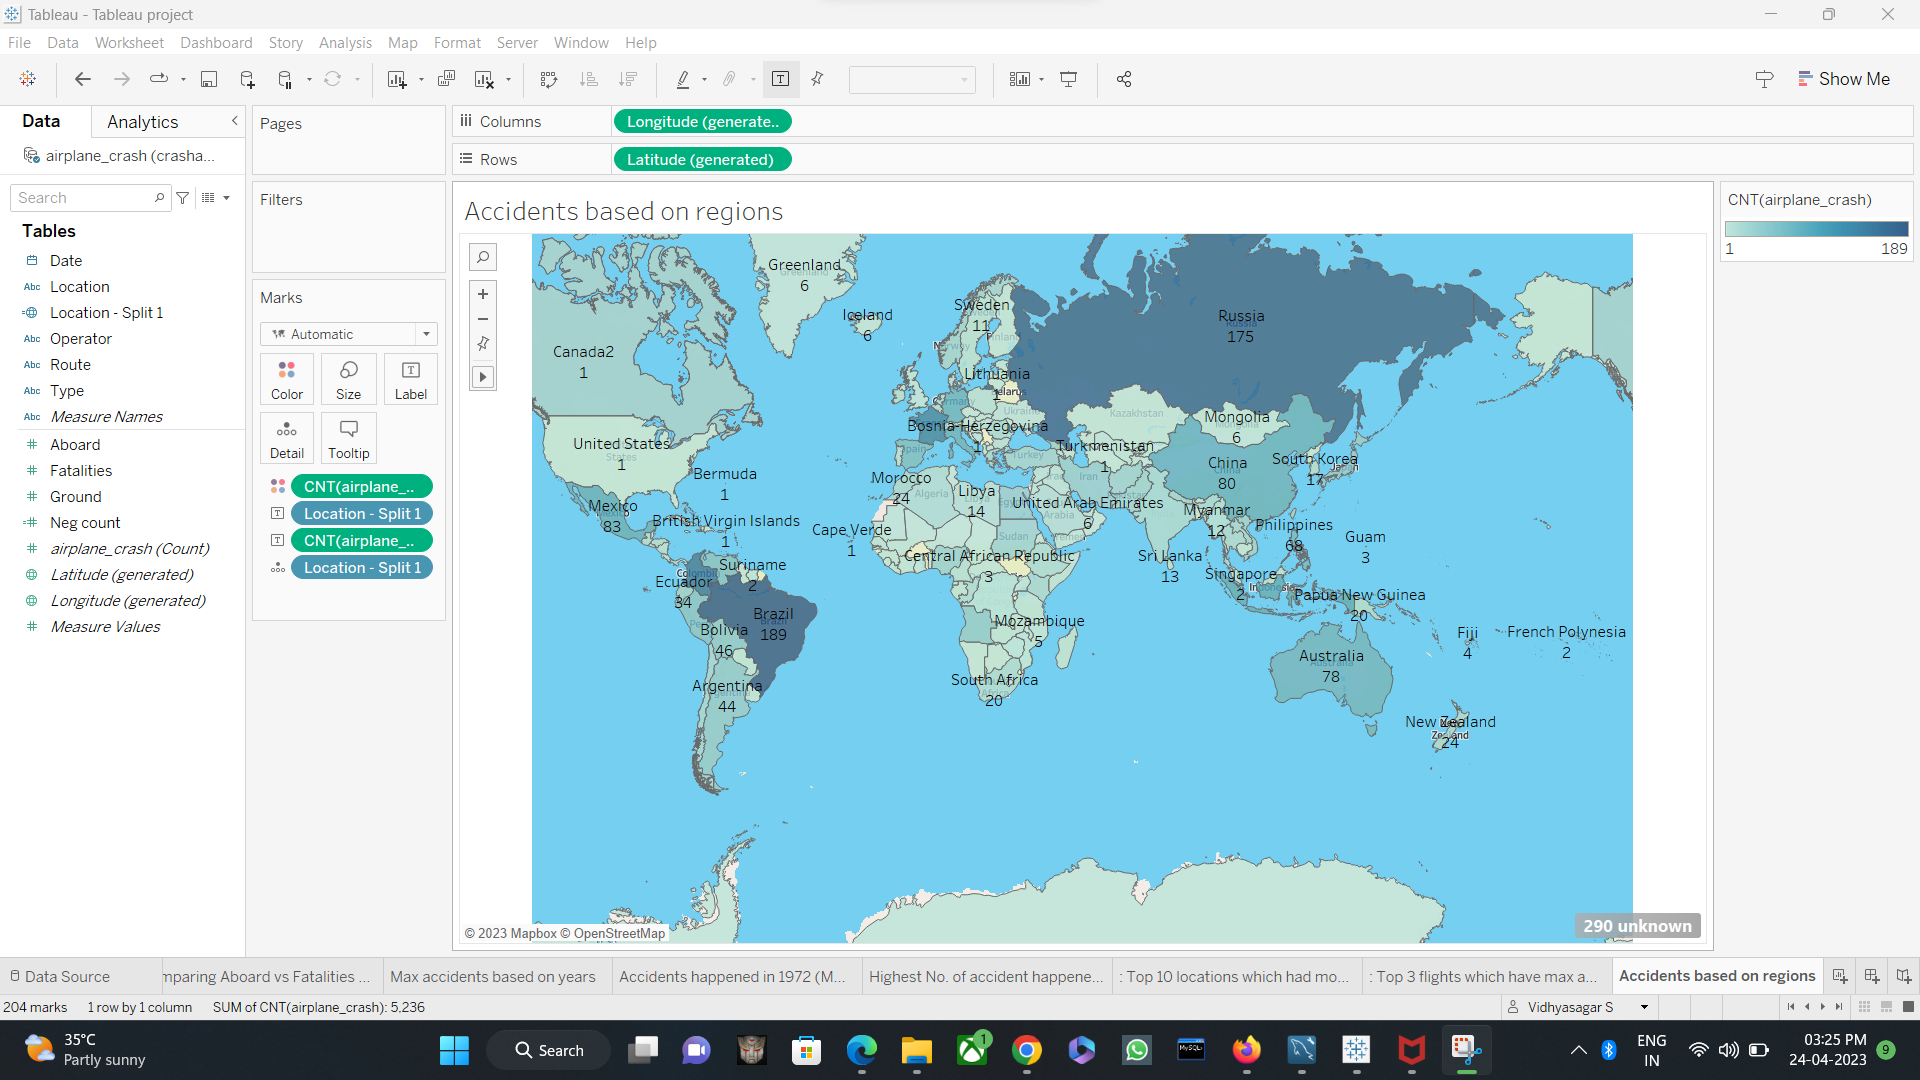

What the dashboard file says about the page in this screenshot:
{"tool":"tableau","page":{"name":"Dashboard 2","canvas":[1000,800],"ordinal":1},"visuals":[{"type":"worksheet","title":"Accidents based on regions","mark":"Automatic","box":[8,8,824,784]},{"type":"legend","title":"Accidents based on regions","param":"[federated.0fcok461ikxv8c1a9cy0o0rd9jlm].[__tableau_internal_object_id__].[cnt:a","box":[832,8,160,73]},{"type":"dashboard-object","box":[672,27,164,52]}]}

Visuals, with their boxes on the page's 1000x800 design canvas (x1, y1, x2, y2). These are canvas units, not pixel positions in the 1920x1080 screenshot, which may show the page scaled, cropped or inside an application window:
"Accidents based on regions" worksheet: [x1=8, y1=8, x2=832, y2=792]
"Accidents based on regions" legend: [x1=832, y1=8, x2=992, y2=81]
dashboard-object: [x1=672, y1=27, x2=836, y2=79]
